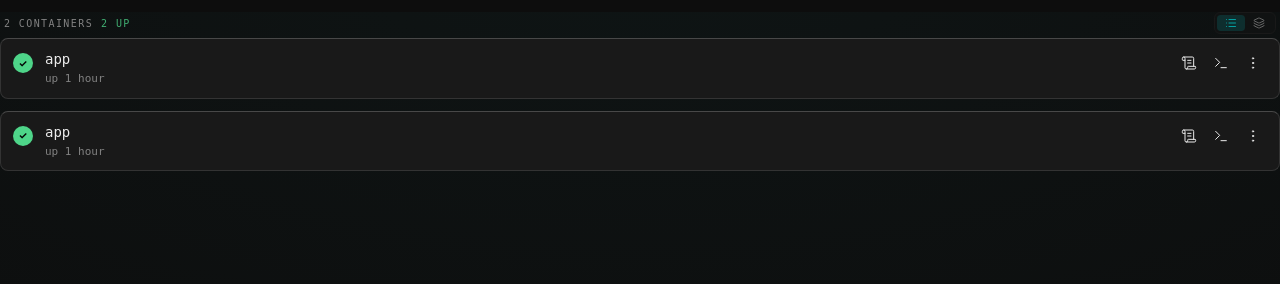
Test: declared-service headers (multi-service only) › toggles detailed sparklines on the multi-service path
The width and height of the screenshot is (1280, 284).
Expected: the text "cpu" is not shown
Click the button named "Detailed view" at (1259, 23), box left=1245, top=15, right=1273, bottom=31
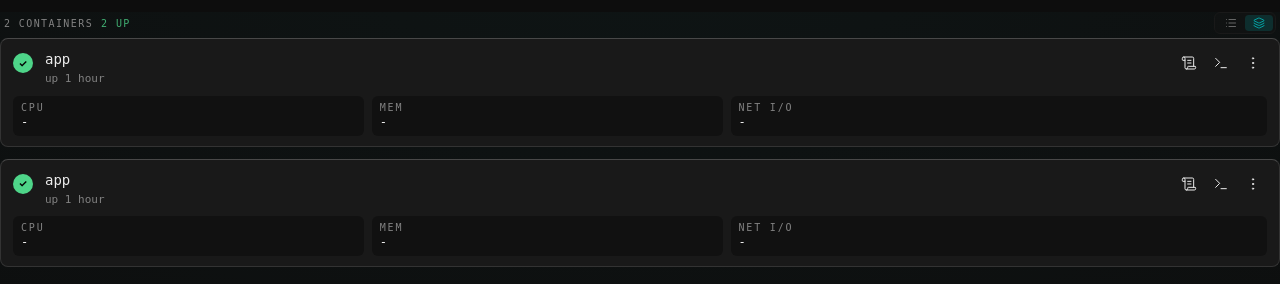
Now the text "cpu" is shown 2 times, box left=21, top=102, right=44, bottom=114; left=21, top=222, right=44, bottom=234
